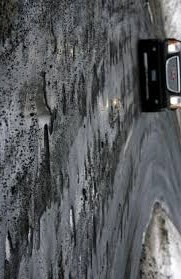pothole: (31, 70, 57, 249), (0, 1, 24, 41), (17, 175, 28, 259), (84, 217, 98, 266), (66, 204, 77, 248), (78, 70, 87, 123), (4, 231, 16, 267), (48, 22, 59, 57), (126, 153, 135, 193), (92, 65, 99, 114), (60, 83, 69, 119), (68, 74, 78, 105), (51, 210, 62, 235), (118, 203, 125, 239), (68, 38, 78, 60), (104, 242, 111, 273), (107, 101, 114, 132), (78, 193, 87, 215), (56, 251, 63, 279), (102, 59, 108, 90), (125, 254, 132, 277), (97, 130, 103, 156), (56, 172, 63, 193), (46, 261, 53, 278), (84, 142, 91, 159), (116, 117, 121, 135), (85, 162, 89, 180), (77, 167, 81, 185), (110, 52, 114, 70), (67, 173, 71, 190)
